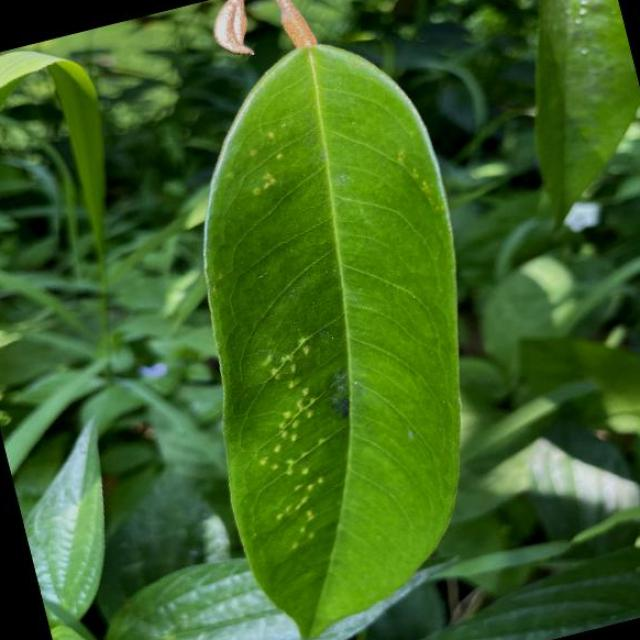Leaf Spot: (113, 0, 559, 640)
